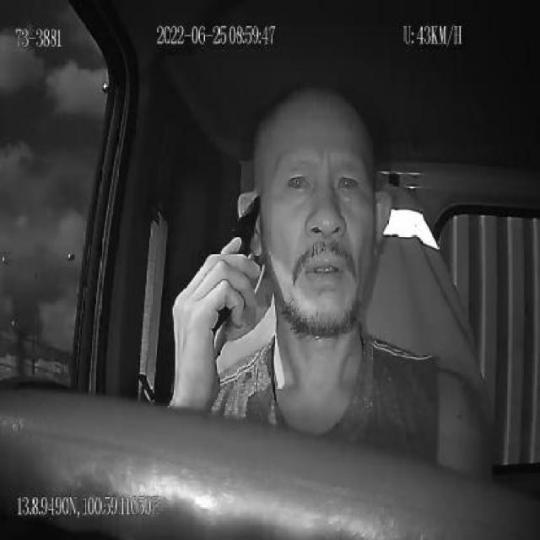phone: (216, 195, 262, 331)
